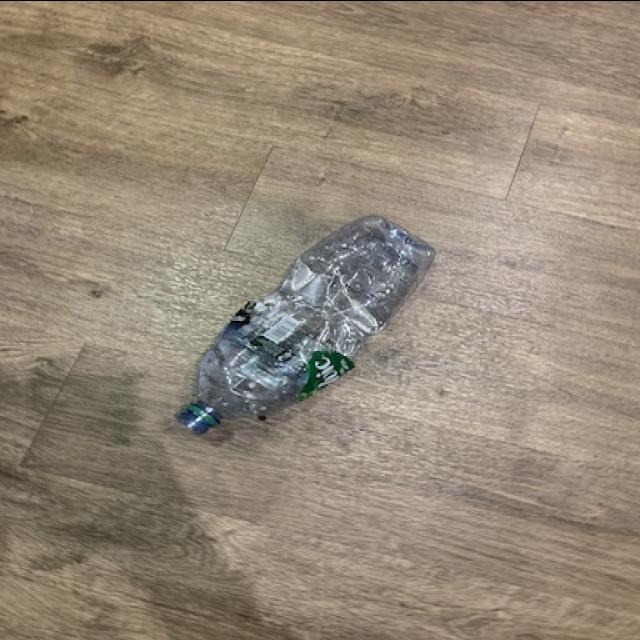litter: (172, 210, 438, 440)
